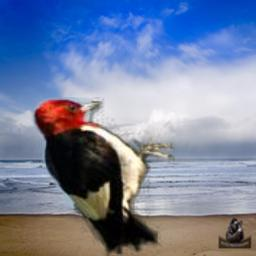Woodpecker: (30, 97, 175, 256)
